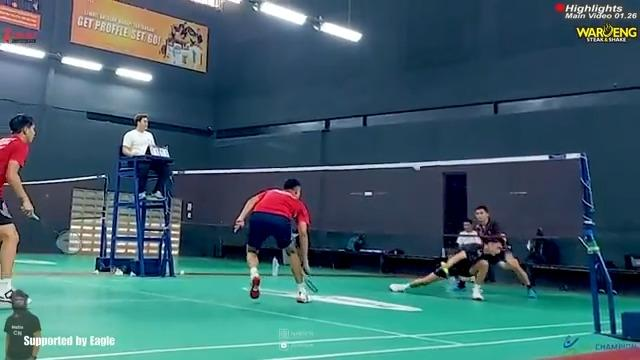Shuttlecock: (410, 161, 422, 173)
